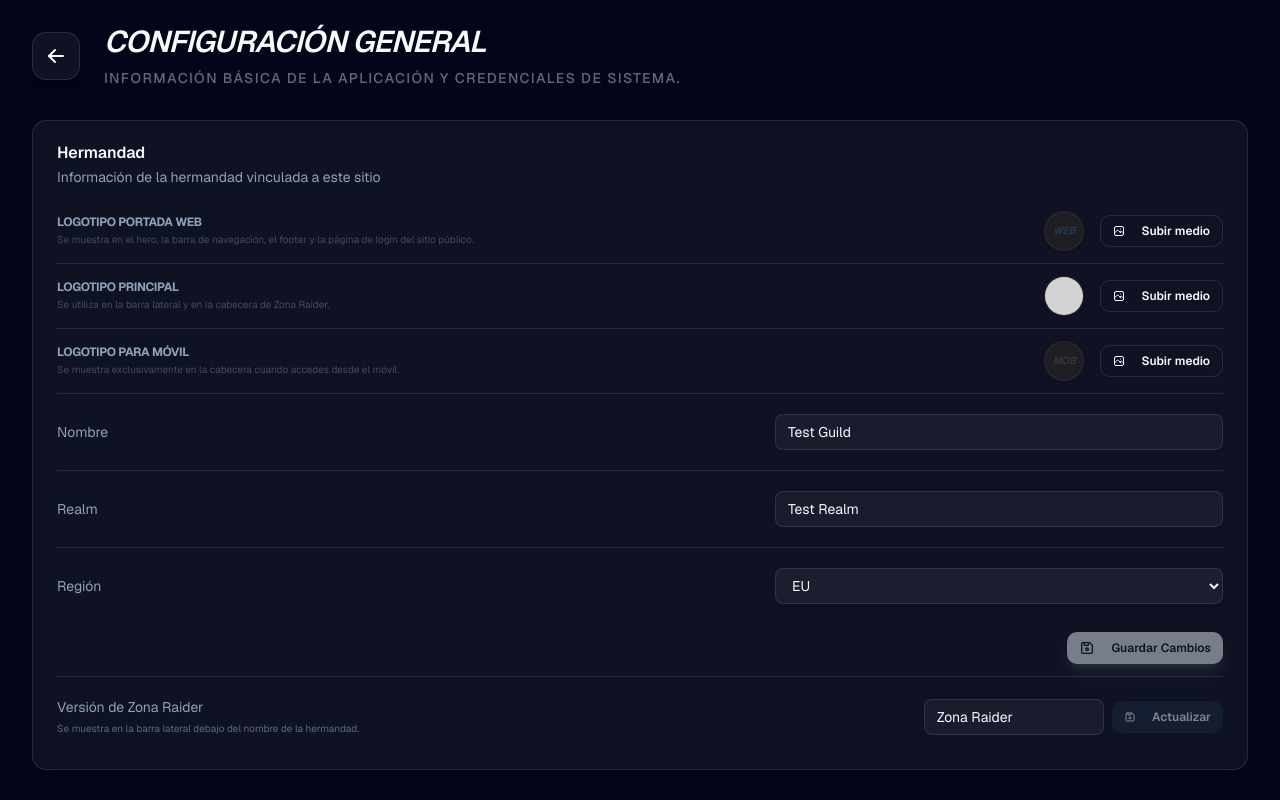
Test: SettingsGeneralClient — MediaPicker integration for icons › opens MediaPicker scoped to guild_assets when Subir medio is clicked
What coordinates should you click on to do the following:
click the button "Subir medio" in the row of "Logotipo Portada Web"
I would click on:
 (1162, 231)
Its box is [1100,215,1223,247].
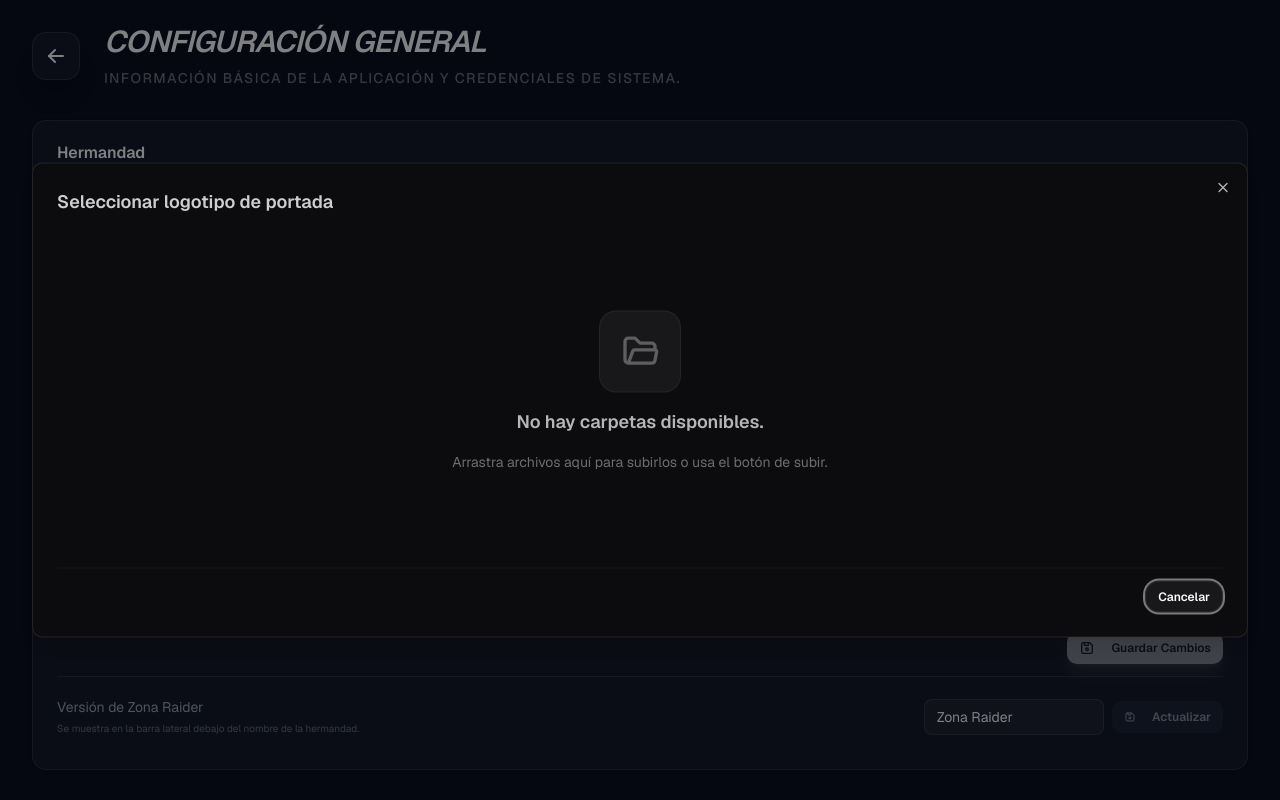
Result: the heading "Seleccionar logotipo de portada" is shown at [57,188,333,216]
